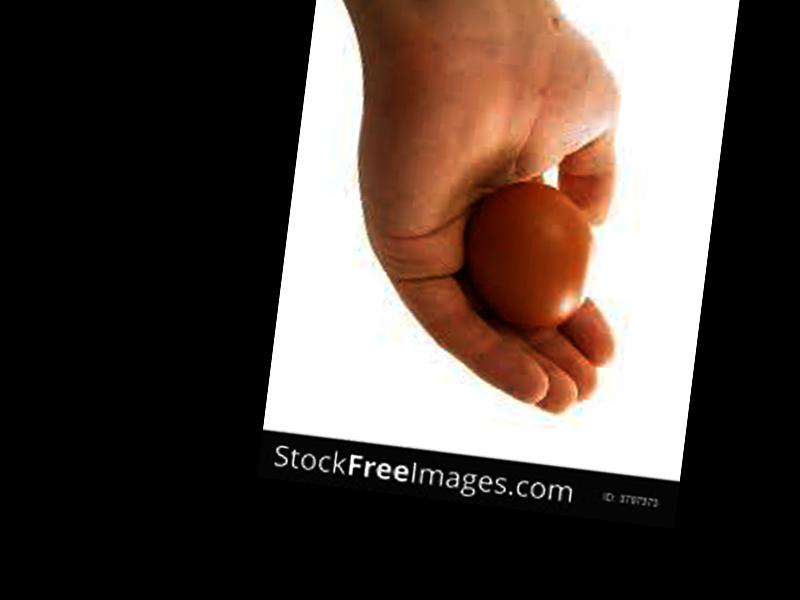Eggs: (458, 174, 600, 345)
